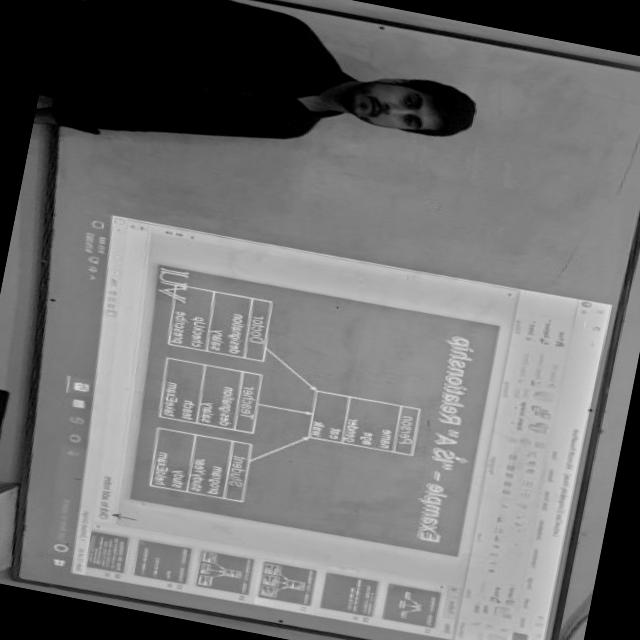Instructor: (52, 0, 508, 202)
Slide: (41, 207, 616, 640)
White-board: (19, 0, 640, 640)
